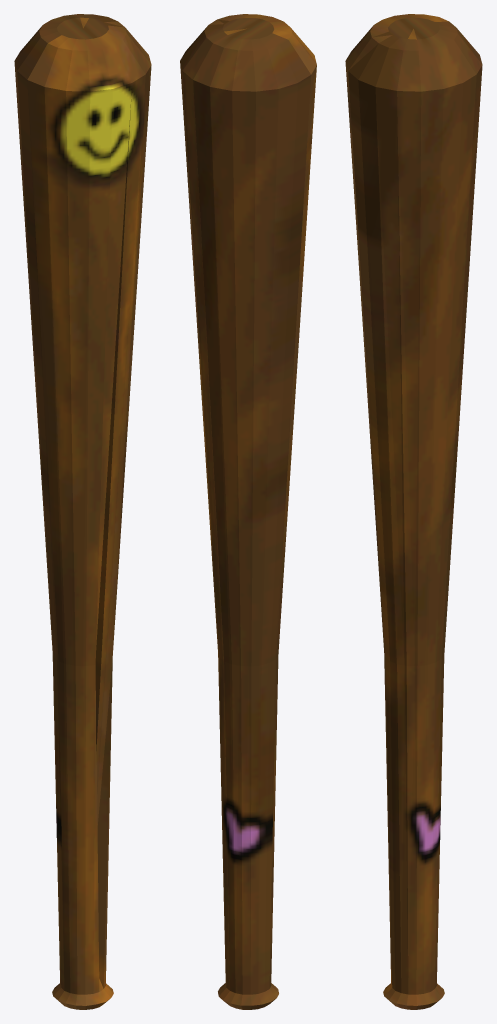
File: Bat.glb
The picture shows the model from 3 angles, left to right: view 1: azimuth 90°, elevation 25°; view 2: azimuth 210°, elevation 25°; view 3: azimuth 270°, elevation 25°; orthographic projection.
Parts seen in each view (by area): view 1: Bat; view 2: Bat; view 3: Bat.
Boxes of the visible parts, <box> form: Bat: <box>14,14,151,1009</box>; Bat: <box>180,14,316,1009</box>; Bat: <box>345,14,482,1009</box>.
Size of the model in its own units: 11.5 by 90.49 by 11.57.
1 material, 1 textured.
